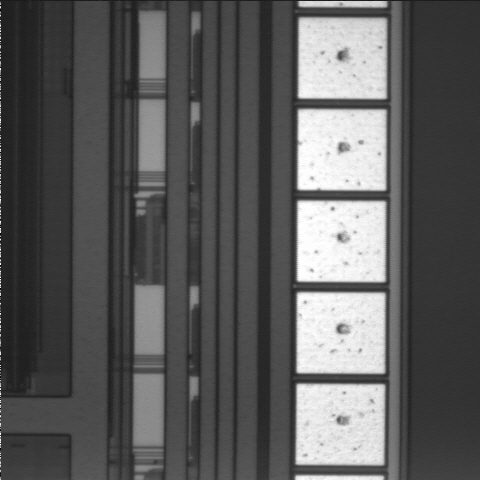pad: (297, 201, 386, 282), (296, 384, 385, 465), (298, 18, 386, 99), (298, 109, 386, 190), (297, 292, 385, 373)
